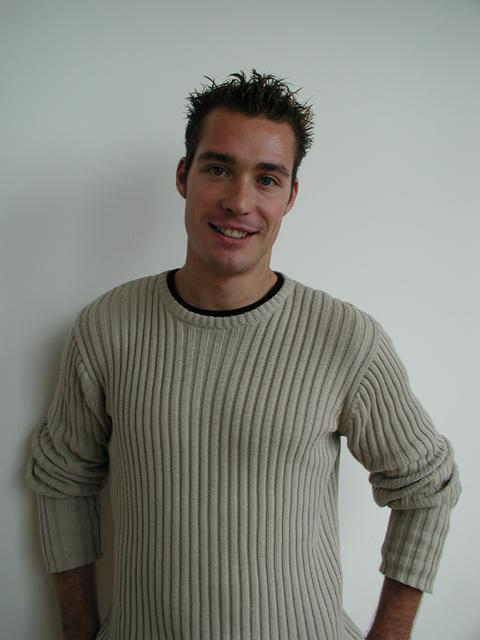Person: (27, 74, 462, 640)
